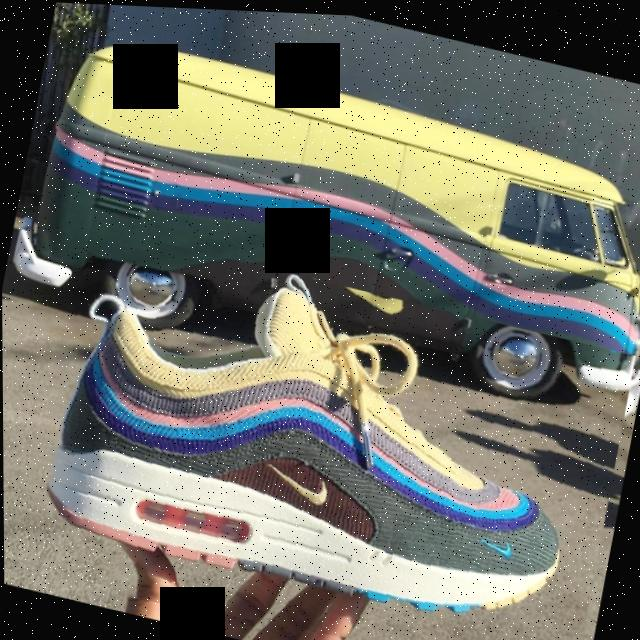shoe: (12, 220, 637, 640)
